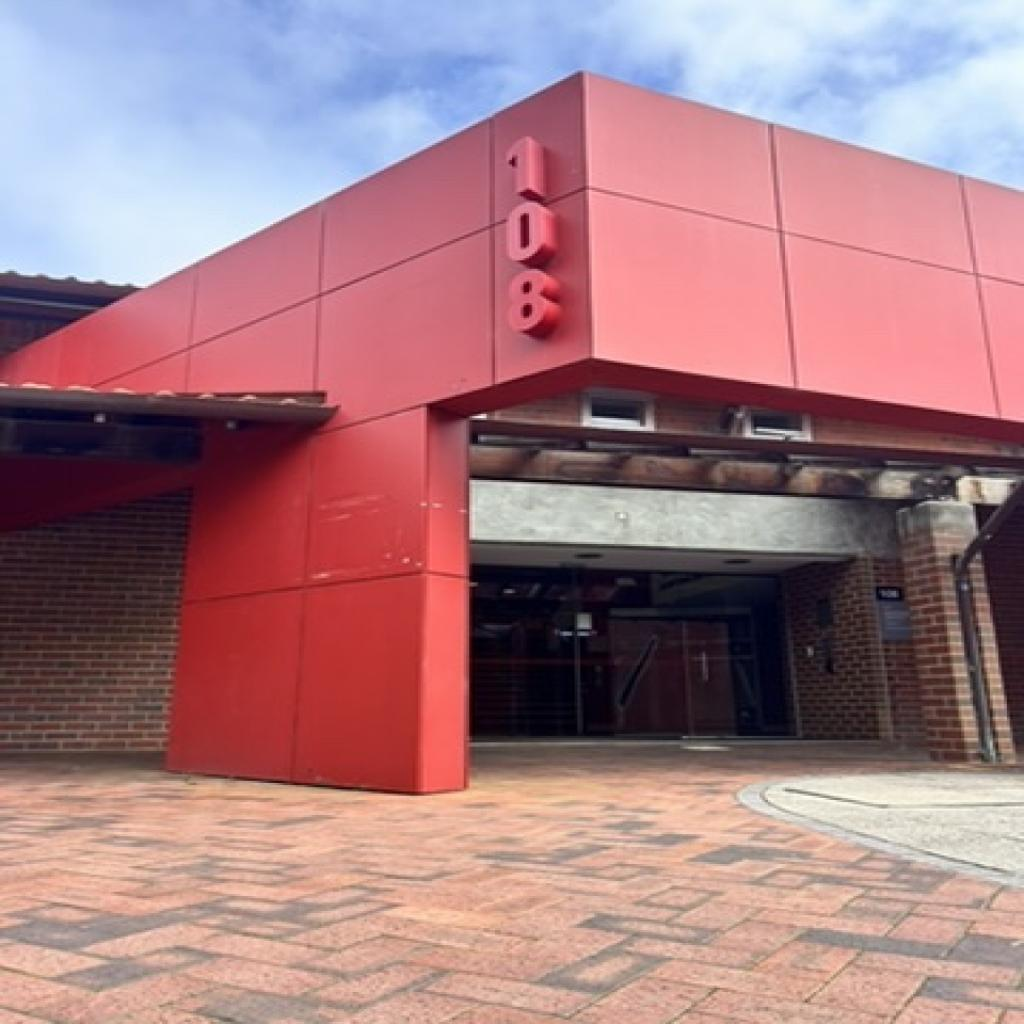BuildingCodes: (505, 134, 549, 340)
